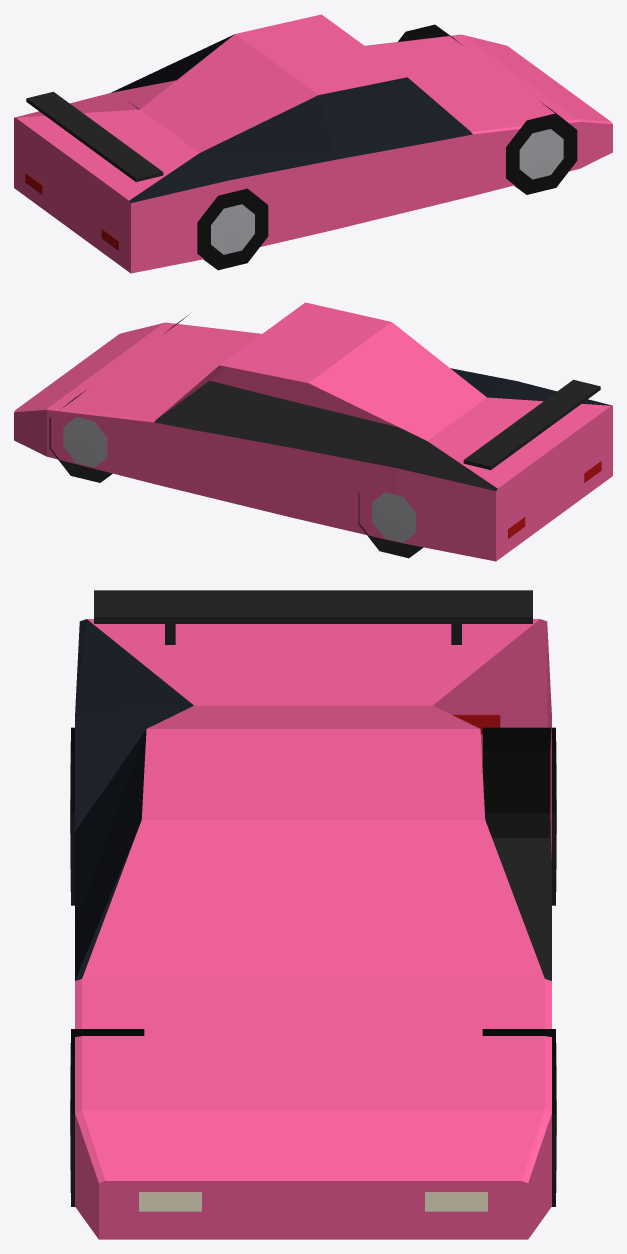
The picture shows the model from 3 angles, top to bottom: view 1: azimuth 30°, elevation 25°; view 2: azimuth 150°, elevation 25°; view 3: azimuth 270°, elevation 25°; orthographic projection. The views are drawn at different scales.
Parts seen in each view (by area): view 1: car; view 2: car; view 3: car.
Part boxes in pixels (x1,y1,x2,y2): car: (14, 14, 612, 273); car: (14, 302, 612, 561); car: (70, 590, 556, 1239).
Size of the model in its own units: 4.3 by 1.11 by 1.86.
